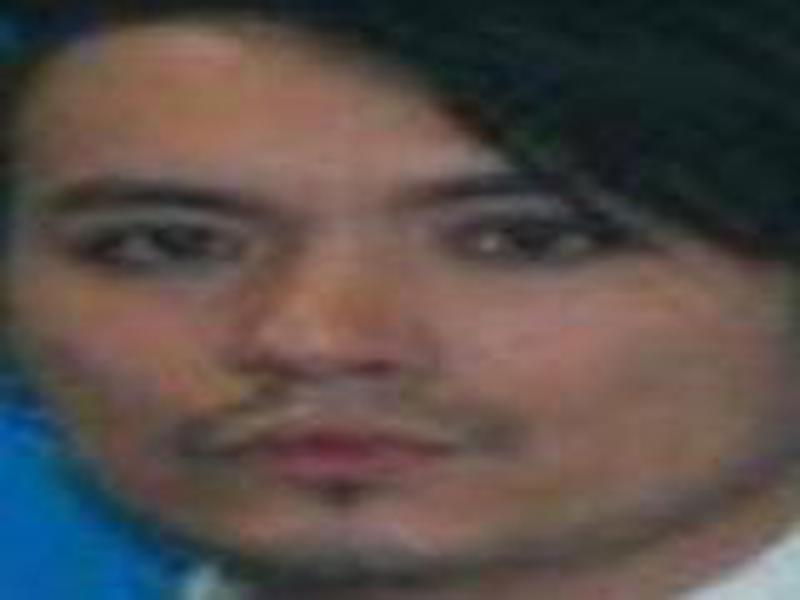without_mask: (14, 84, 768, 574)
